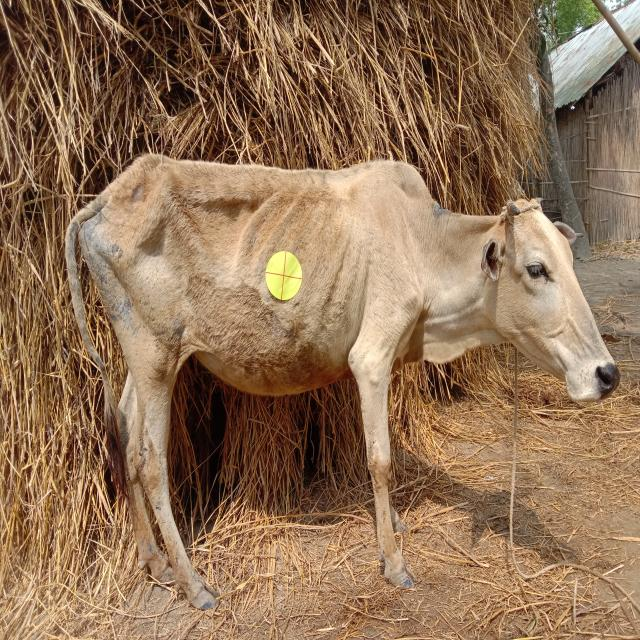badan_sapi: (66, 164, 429, 396)
sapi: (62, 148, 630, 618)
